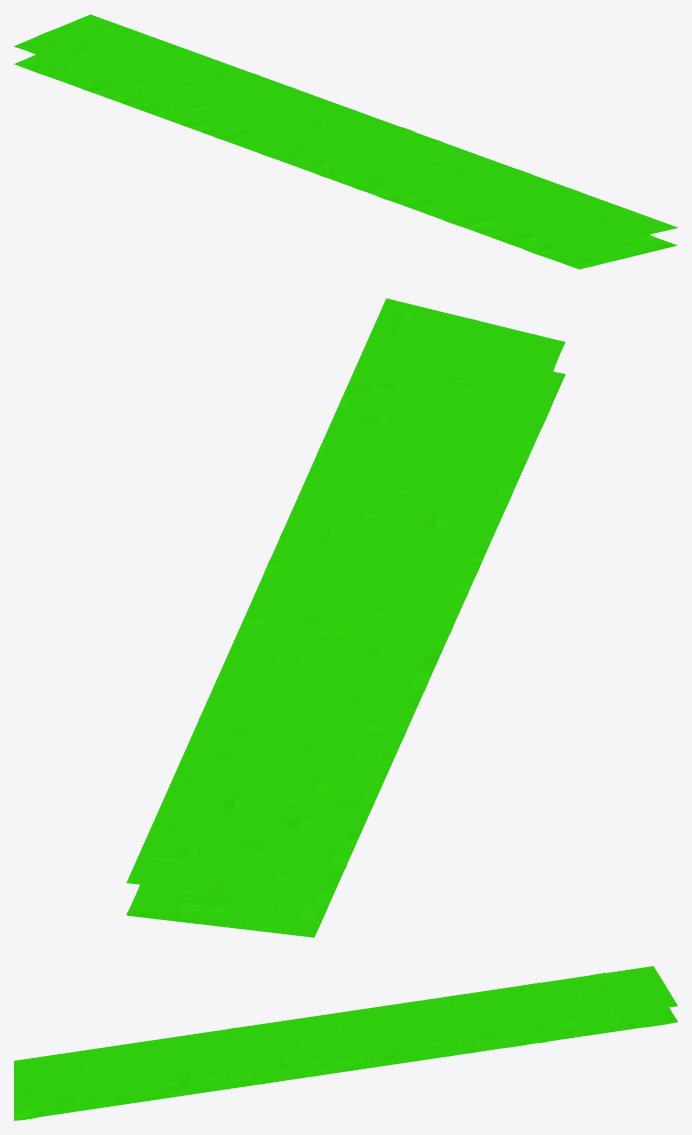
The model's file is Unique 1.fbx.
The picture shows the model from 3 angles, top to bottom: view 1: azimuth 30°, elevation 25°; view 2: azimuth 150°, elevation 25°; view 3: azimuth 270°, elevation 25°; orthographic projection. The views are drawn at different scales.
Parts seen in each view (by area): view 1: Unique_001, Unique_001.001; view 2: Unique_001, Unique_001.001; view 3: Unique_001, Unique_001.001.
Part boxes in pixels (x1,y1,x2,y2): Unique_001: [14, 14, 677, 269]; Unique_001.001: [14, 25, 677, 268]; Unique_001: [126, 298, 565, 937]; Unique_001.001: [126, 309, 565, 937]; Unique_001: [14, 966, 677, 1120]; Unique_001.001: [14, 972, 677, 1120].
Size of the model in its own units: 1713 by 101 by 3470.
